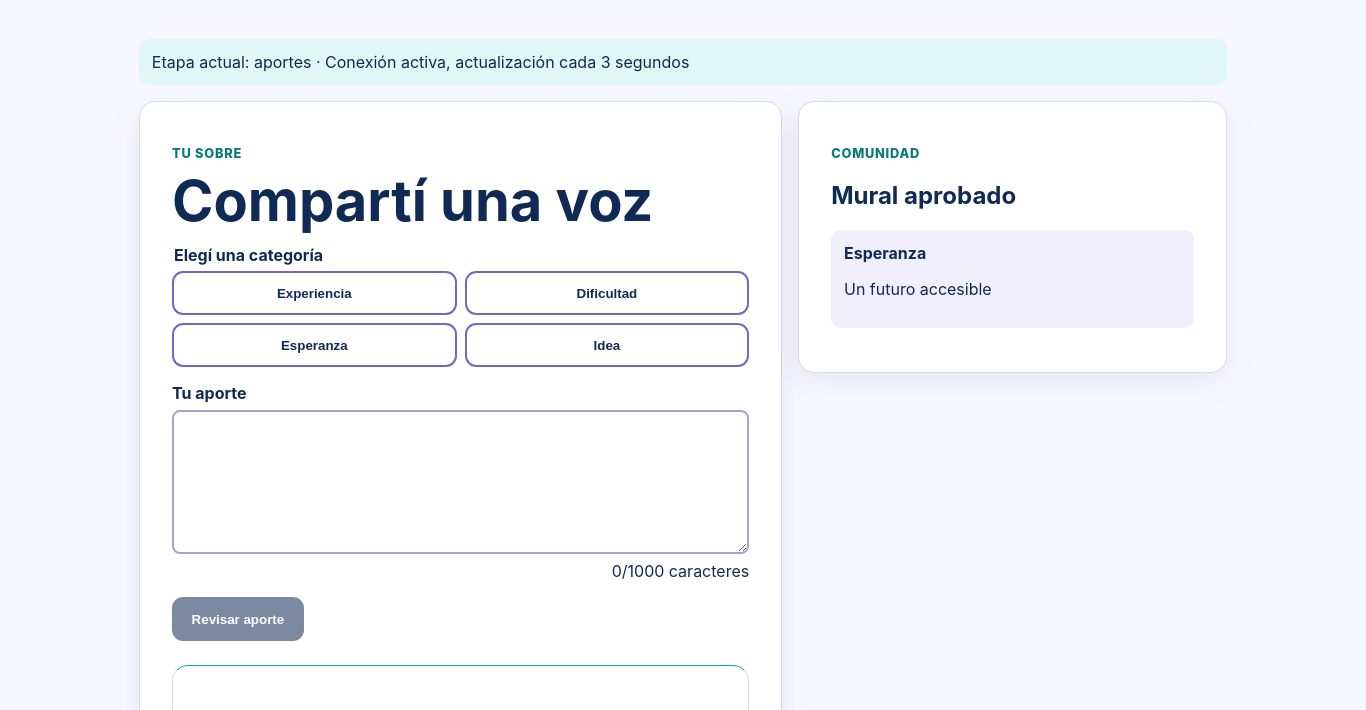
Test: participant flow › selects a category and confirms a pending submission
Expected: the heading "Compartí una voz" is shown, [172,174,701,229]
Click the button "Idea" at (607, 346), box [465,324,749,368]
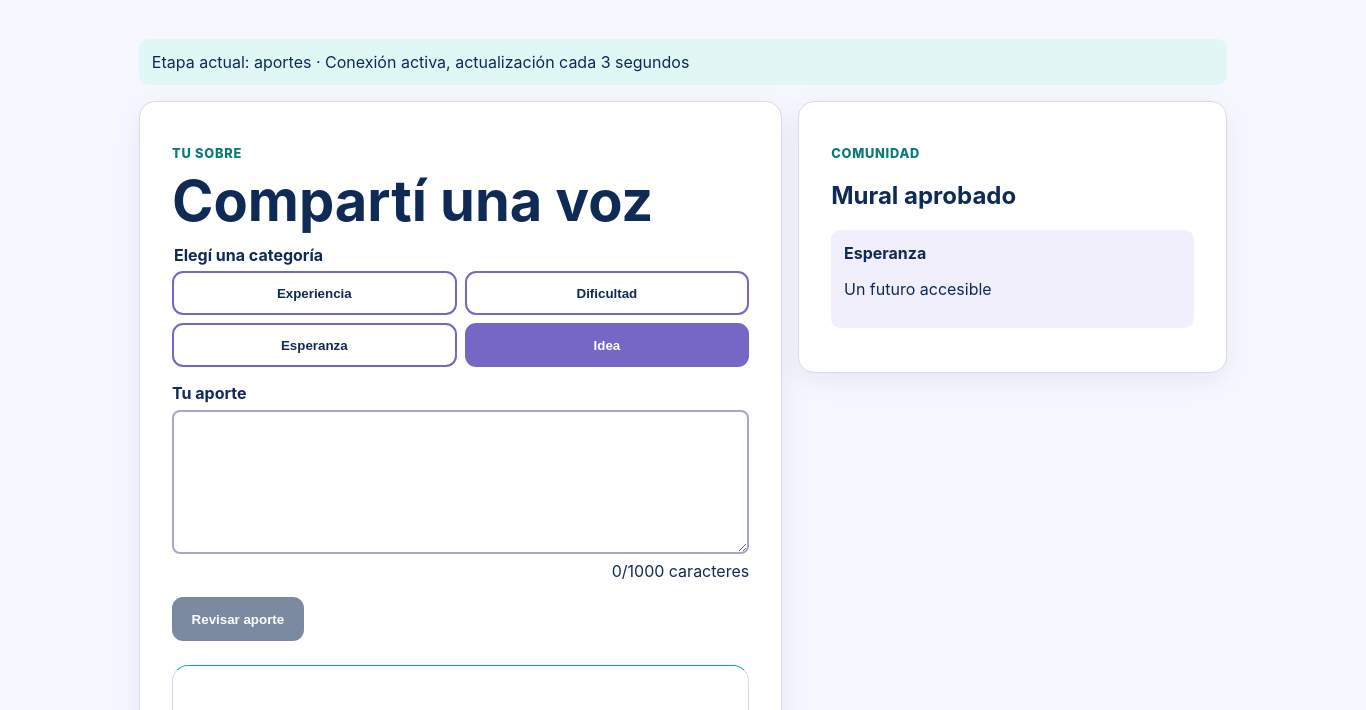
Type "Rampas para todos" into the text box labelled "Tu aporte" at (461, 482), box [172,410,749,554]
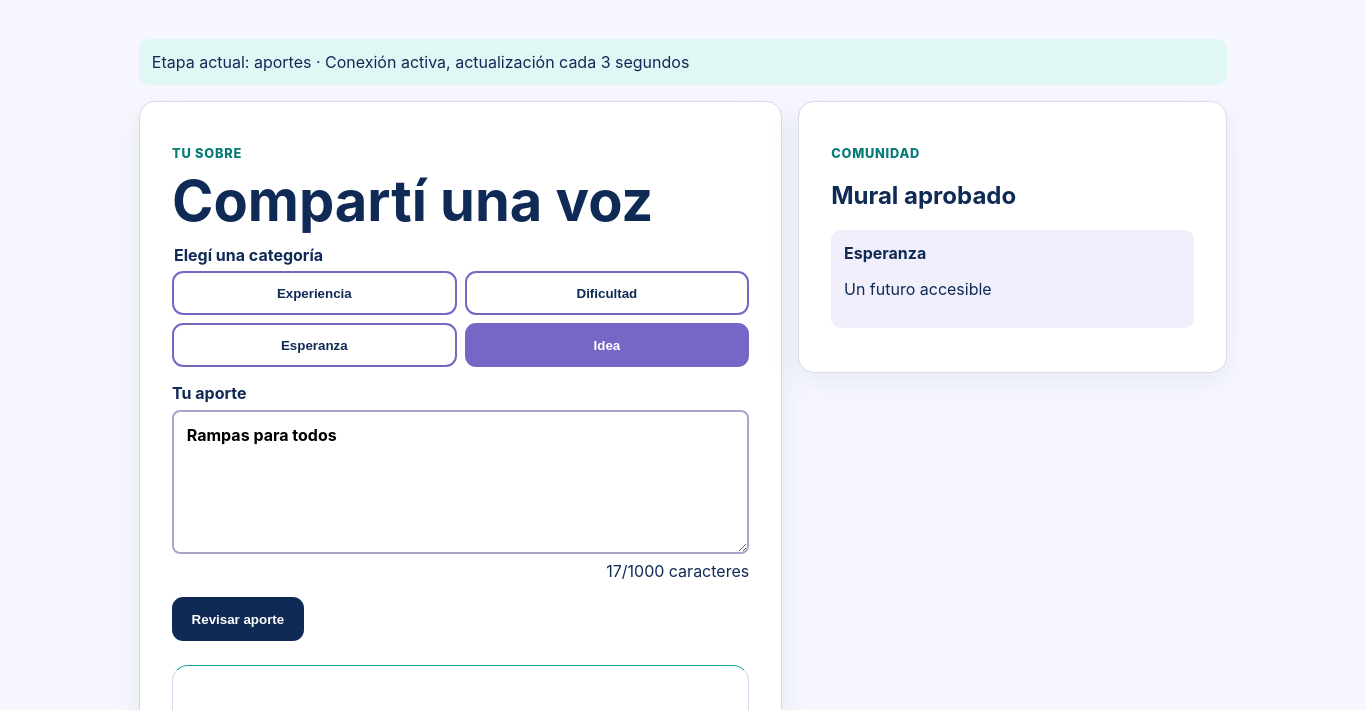
Click the button "Revisar aporte" at (238, 619), box [172,597,304,641]
(page scrolled)
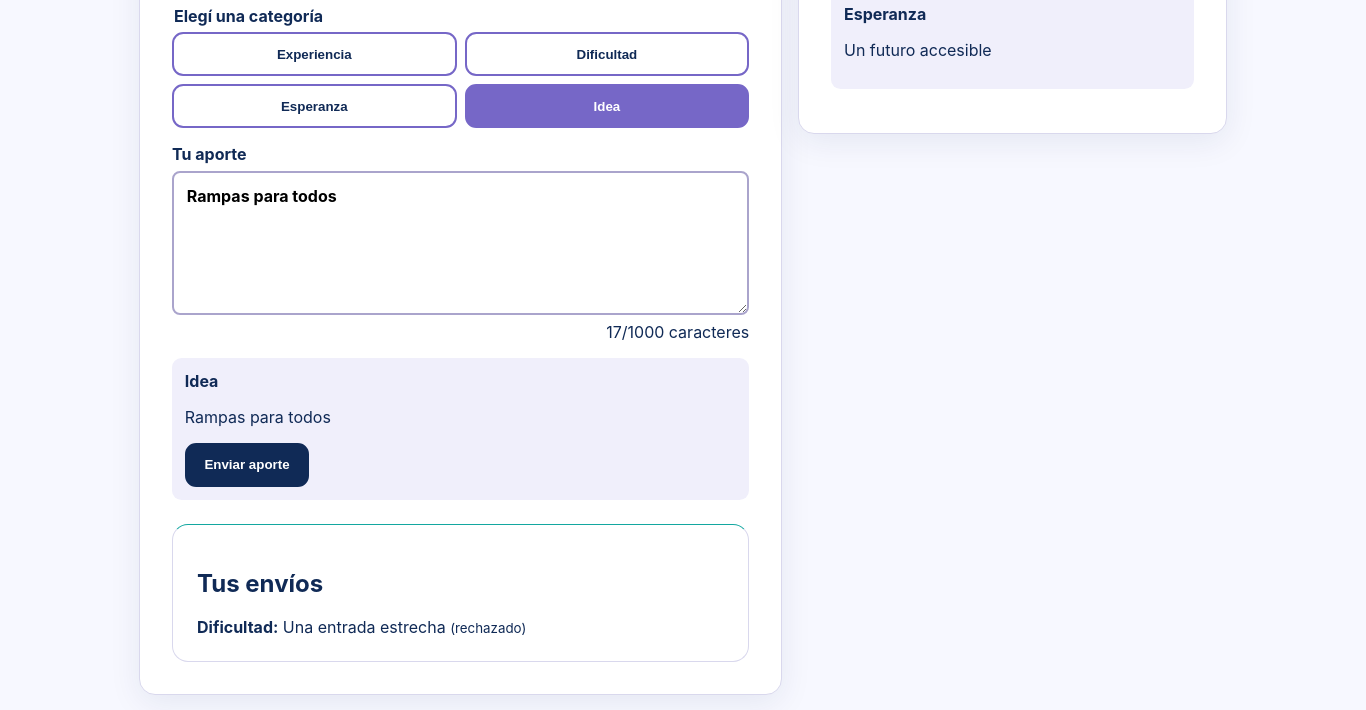
Click the button "Enviar aporte" at (247, 465), box [185,443,309,487]
(page scrolled)
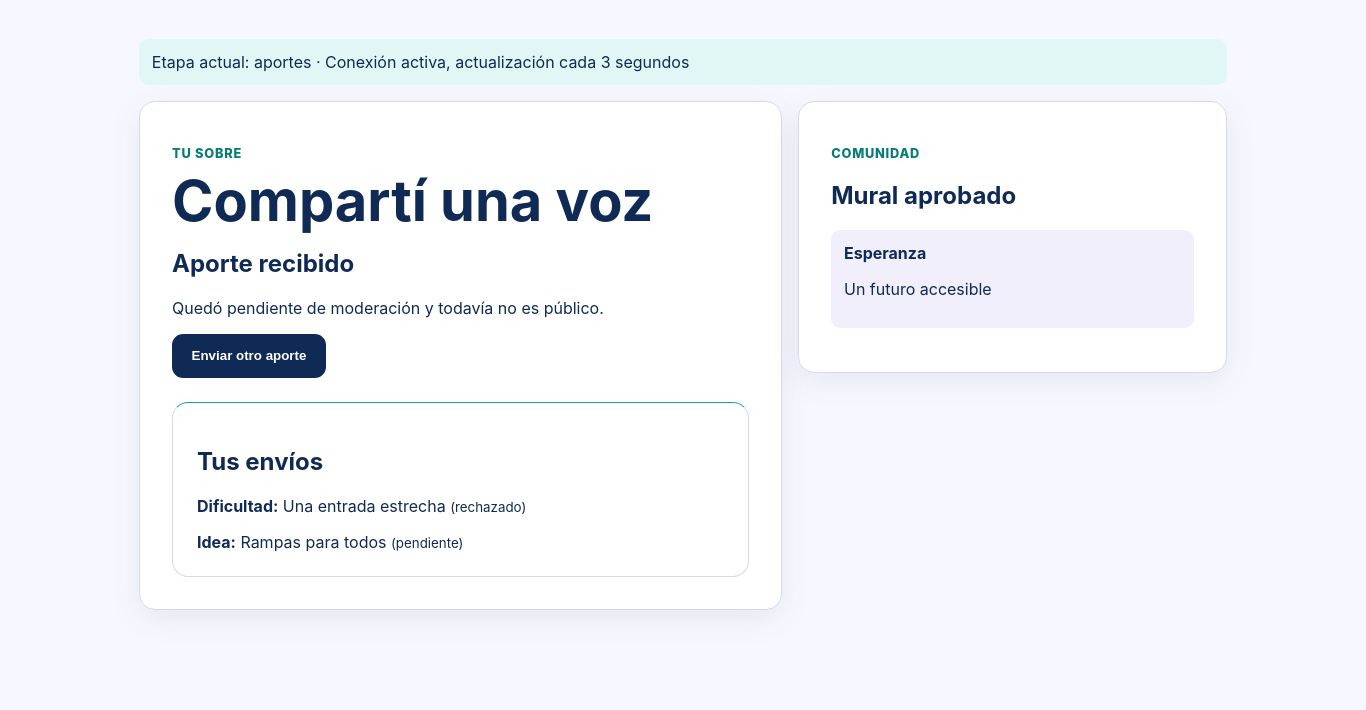
Result: the text "Quedó pendiente de moderación y todavía no es público." is shown at [172,298,604,318]
